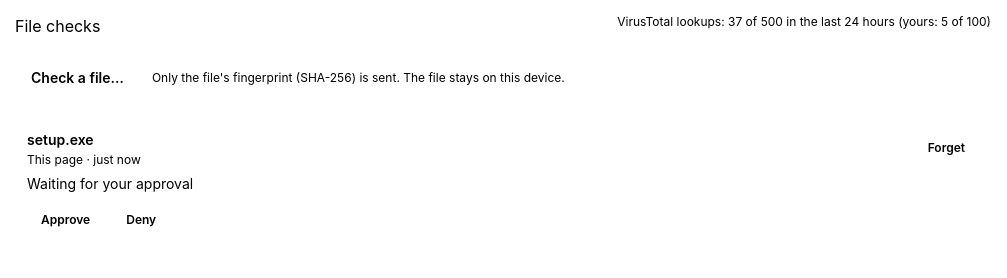
FileChecksTab › a failed decision keeps the row with the reason
Click the button with aria-label "Deny sending setup.exe" at {"x": 141, "y": 220}, box [112,202,170,238]
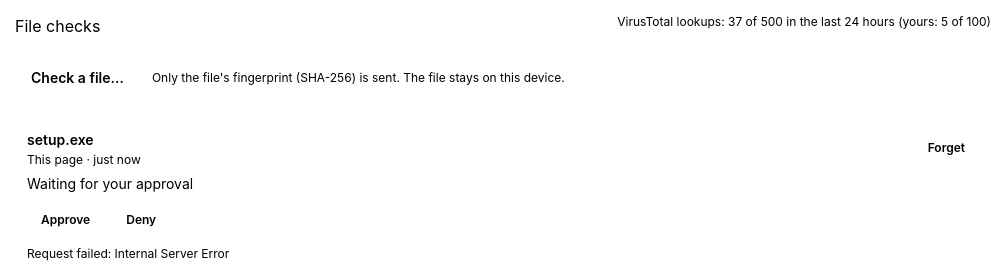
Expected: the list item "setup.exe" shows "Waiting for your approval", [27,175,193,192]
Expected: the message reads "Request failed: Internal Server Error", [27,246,229,261]
